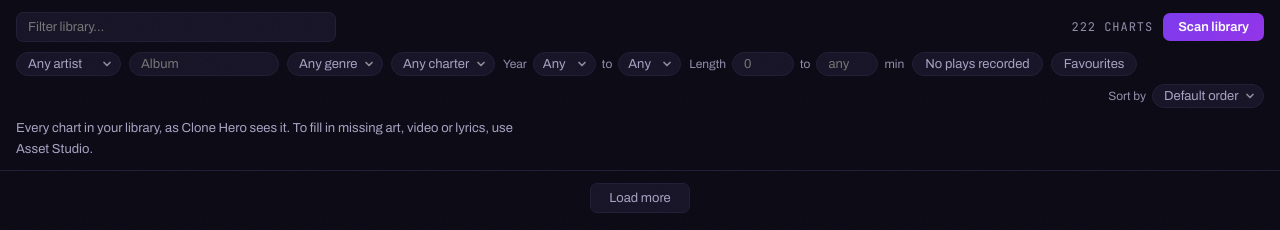
Library: the filter bar › counts the matches against the whole catalog once something is filtering
Expected: the text "222 CHARTS" is shown, [1072,20,1153,34]
Type "Live" into the field named "Filter by album" at (204, 64), box [129,52,279,76]
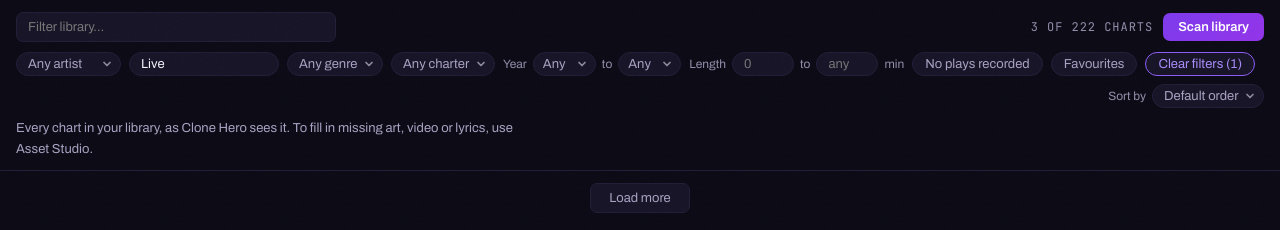
Expected: the text "3 OF 222 CHARTS" is shown, [1031,20,1153,34]
